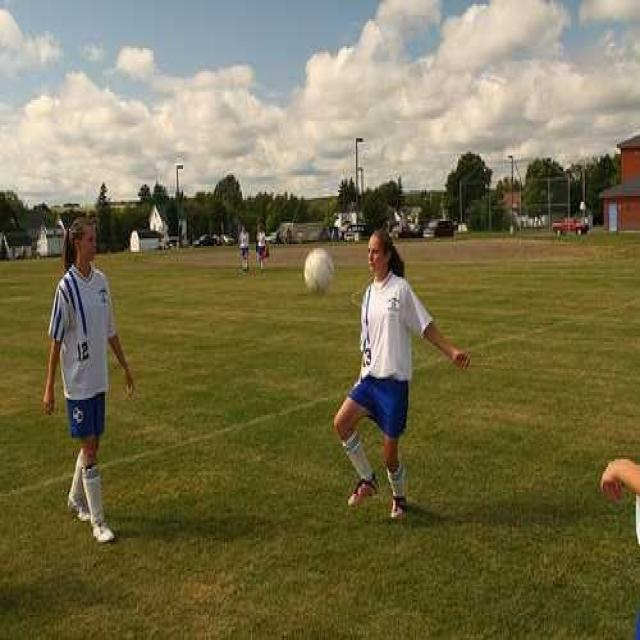ball: (304, 250, 335, 295)
